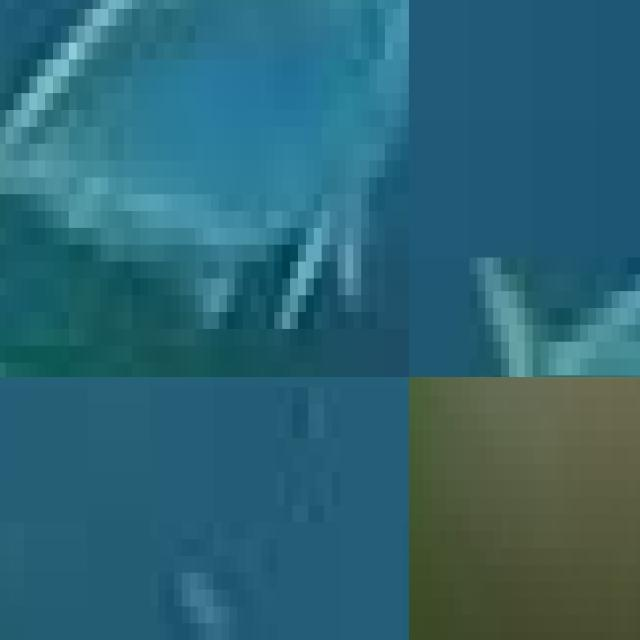fish: (0, 0, 409, 377)
